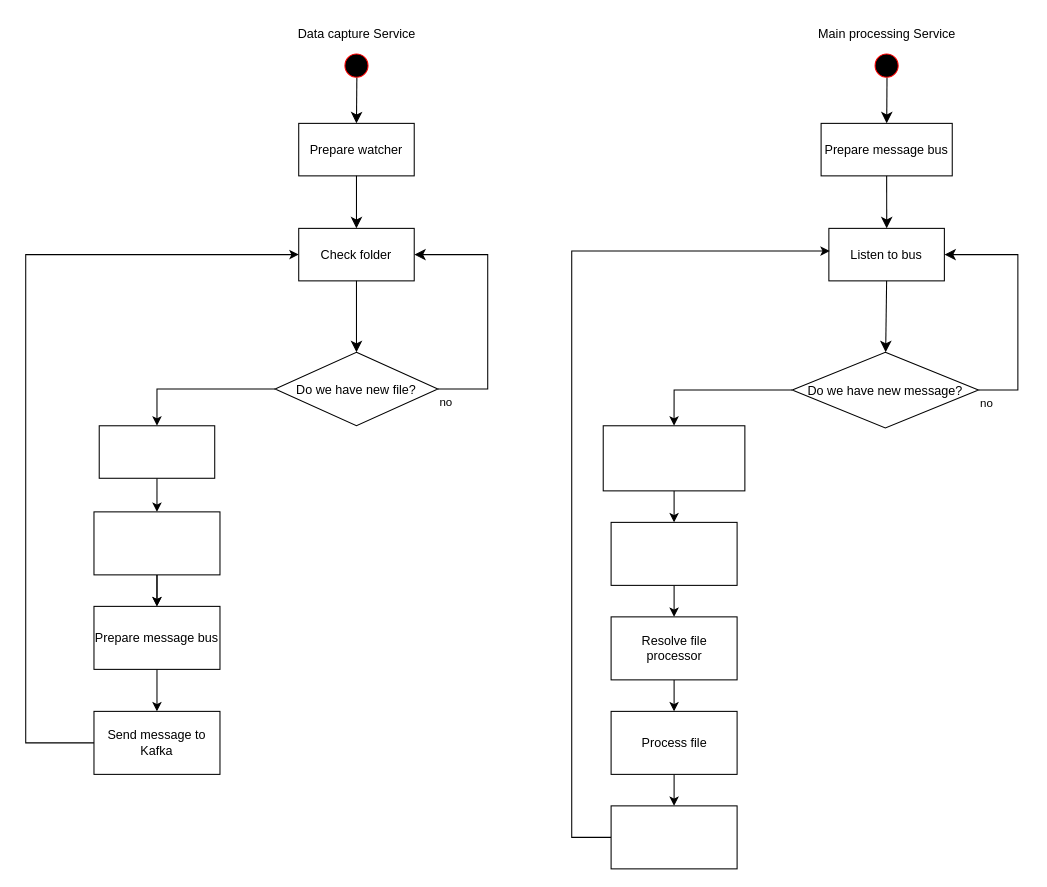
The diagram is 1047 pixels wide and 887 high, and some of its shapes have lost their labels. The shapes that lost their labels are listed below. From the top down, each one's centre as x and y in pixels, then its label:
the point at 156,451: Read file content
the point at 673,458: Read message content
the point at 156,543: Create DCSMessage
the point at 673,553: Deserialize message properties
the point at 673,837: Put file to a folder
